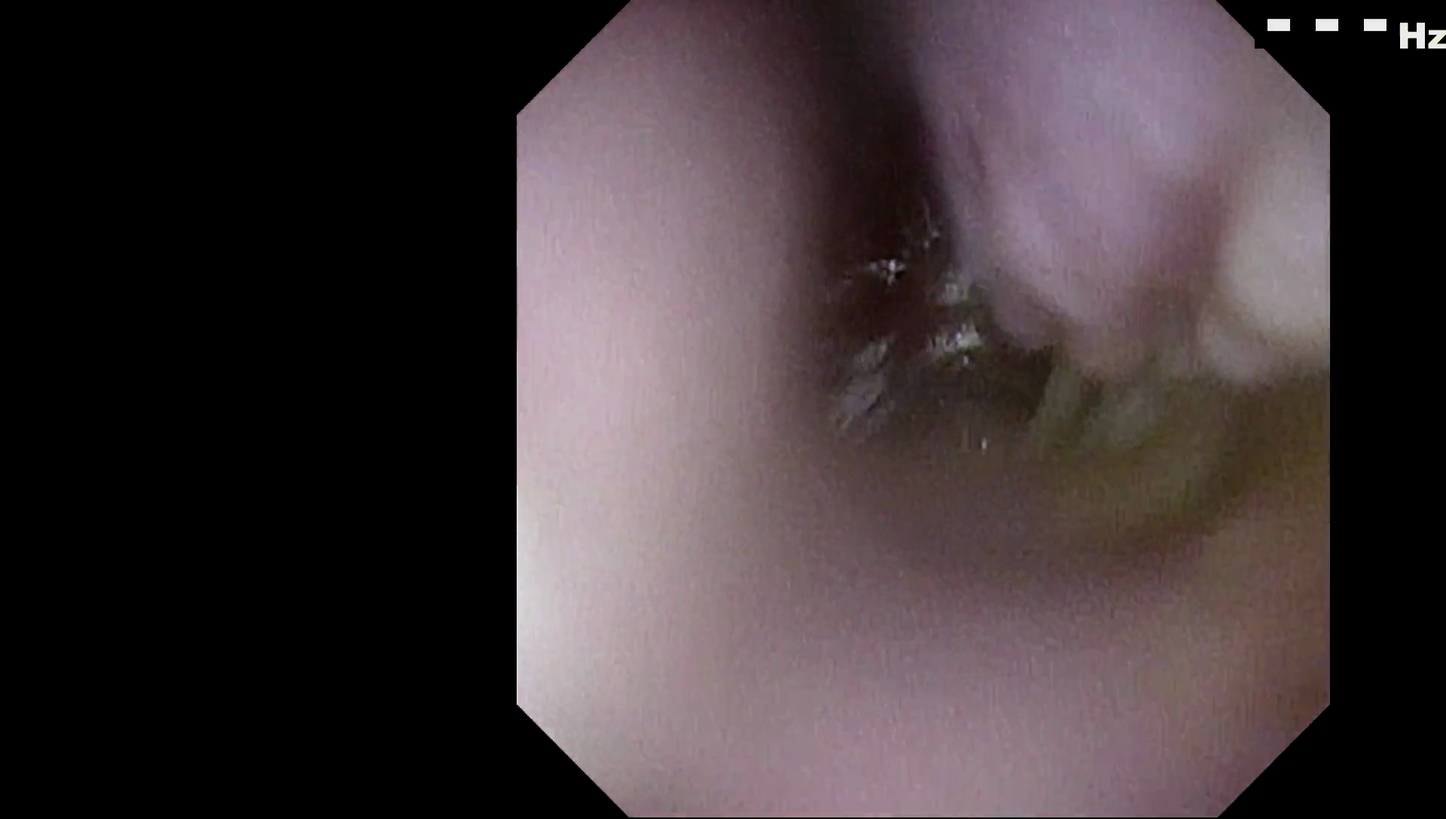close_wall: (518, 114, 830, 702), (643, 514, 1215, 815)
next: (786, 47, 979, 389)
